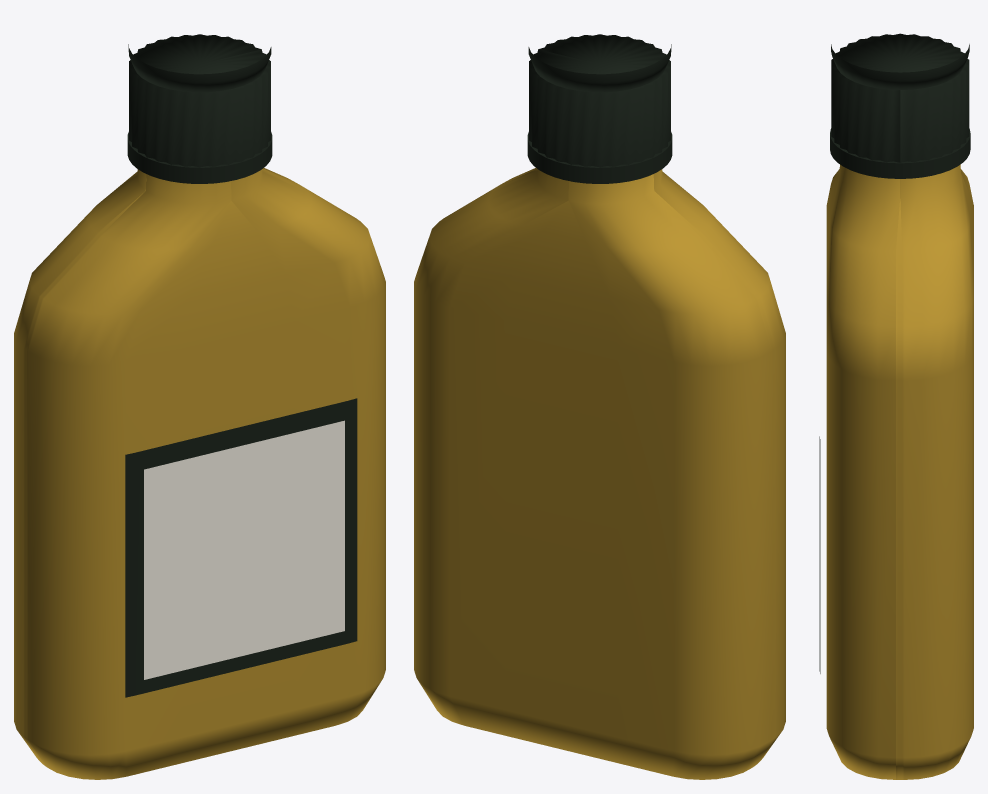
The model's file is flask.glb.
3 views of the same model, side by side, from view 1: azimuth 30°, elevation 25°; view 2: azimuth 150°, elevation 25°; view 3: azimuth 270°, elevation 25° (orthographic). The views are drawn at different scales.
Parts seen in each view (by area): view 1: glass_body, label_slot, cap, panel_plate, cap_skirt, cap_top; view 2: glass_body, cap, cap_skirt, cap_top; view 3: glass_body, cap, cap_skirt, cap_top, panel_plate.
Boxes of the visible parts, x1,y1,x2,y2 form: glass_body: (14, 168, 385, 779); label_slot: (144, 420, 344, 679); cap: (129, 34, 270, 167); panel_plate: (125, 398, 357, 697); cap_skirt: (127, 132, 272, 183); cap_top: (128, 44, 271, 92); glass_body: (414, 168, 785, 779); cap: (529, 34, 670, 167); cap_skirt: (527, 132, 672, 183); cap_top: (528, 44, 671, 92); glass_body: (826, 164, 973, 779); cap: (831, 33, 969, 162); cap_skirt: (830, 128, 970, 178); cap_top: (831, 44, 969, 89); panel_plate: (819, 436, 820, 673).
Size of the model in its own units: 0.09 by 0.169 by 0.0369.
